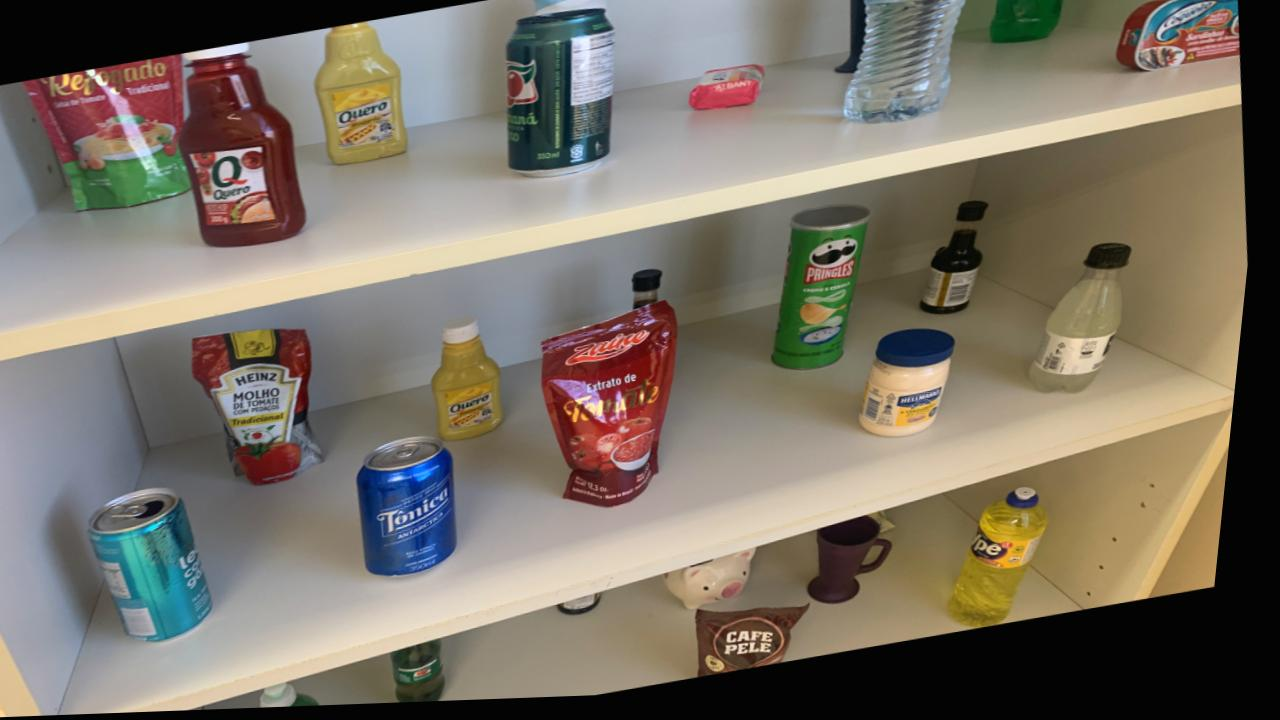Cleaner-Cleanup_Items: (532, 0, 606, 19)
Coffee-Pantry_Items: (708, 611, 822, 682)
Detergent-Cleanup_Items: (963, 495, 1060, 635), (990, 0, 1067, 50), (274, 685, 334, 710)
English_Sauce-Pantry_Items: (927, 207, 993, 321), (638, 274, 668, 314), (571, 597, 616, 620)
Flakes-Snacks: (879, 518, 908, 540)
Guarana-Drinks: (404, 642, 459, 706)
Guarana_Can-Drinks: (507, 12, 616, 181)
Ketchup-Pantry_Items: (181, 44, 310, 249)
Mayonnaise-Pantry_Items: (868, 335, 963, 444)
Mustard-Pantry_Items: (317, 24, 410, 168), (439, 320, 512, 444)
Pig_Safe-Miscellaneous: (675, 554, 768, 615)
Pringles-Snacks: (781, 210, 877, 376)
Soda-Drinks: (1038, 250, 1137, 401)
Tea-Drinks: (100, 489, 225, 643)
Tomato_Sauce-Pantry_Items: (549, 305, 685, 512), (26, 55, 194, 211), (199, 330, 332, 487)
Tonic-Drinks: (366, 439, 469, 580)
Tuna_Can-Pantry_Items: (1118, 0, 1242, 79), (692, 70, 767, 115)
Water_Bottle-Drinks: (847, 0, 970, 130)
